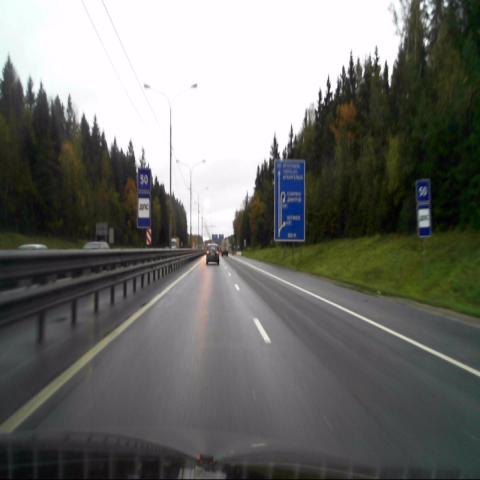6_2: (416, 180, 429, 205), (138, 167, 150, 191)
7_12: (137, 193, 151, 227), (416, 206, 431, 236)
